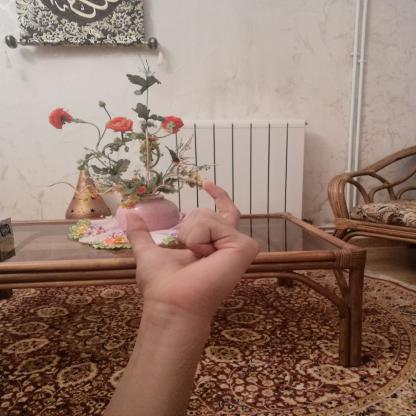NOON: (115, 174, 270, 324)
